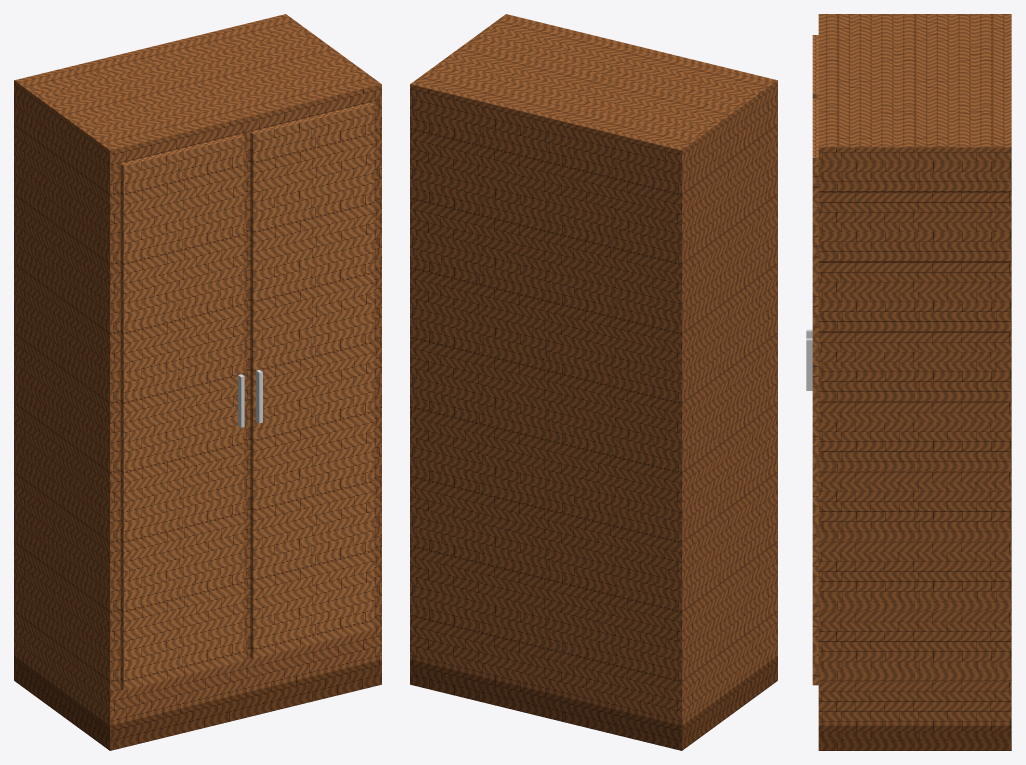
The model's file is placard.glb.
3 renders of one model, left to right at view 1: azimuth 30°, elevation 25°; view 2: azimuth 150°, elevation 25°; view 3: azimuth 270°, elevation 25°, orthographic.
Bounding box in the file's own units: 0.9 × 1.9 × 0.585.
Materials: 4 (3 with a texture image).
